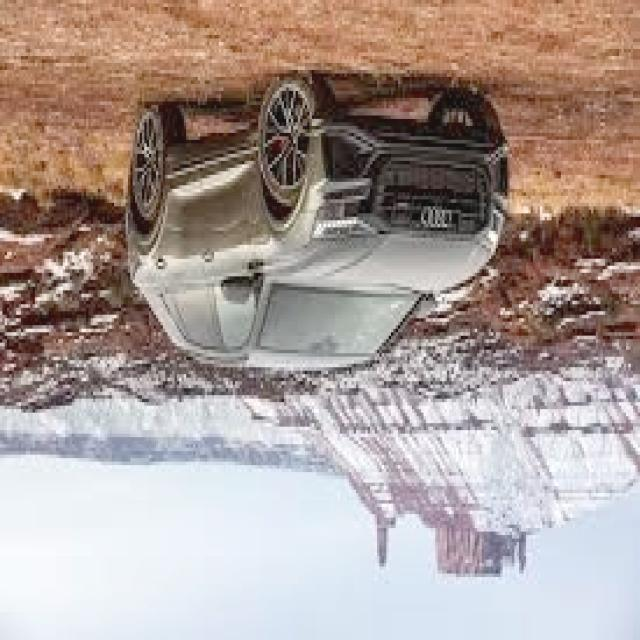black: (130, 63, 508, 363)
